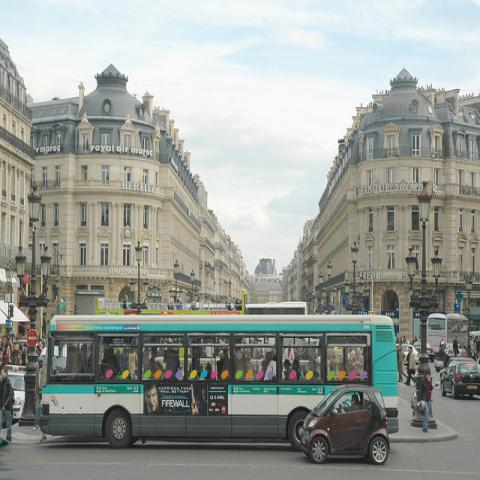bus: (38, 315, 406, 450), (426, 312, 468, 356)
car: (300, 384, 390, 466), (439, 357, 480, 399), (3, 364, 26, 419), (434, 344, 464, 372), (396, 342, 421, 364), (414, 341, 436, 362), (469, 330, 479, 342)
